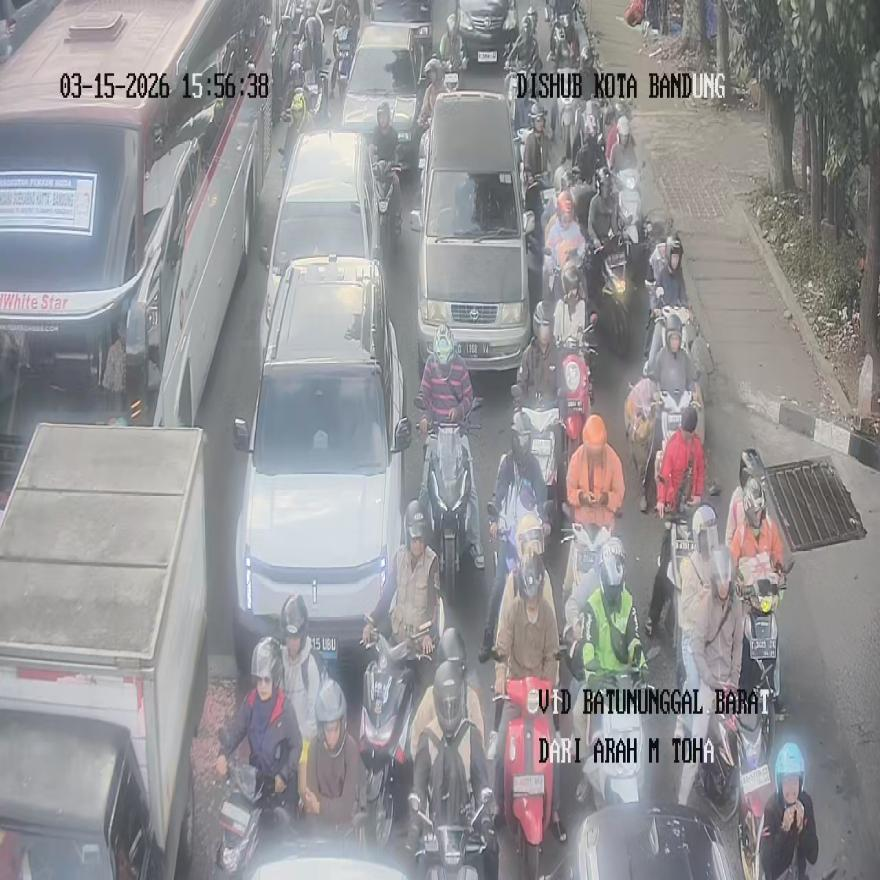Mobil: (0, 423, 209, 876), (231, 254, 410, 677), (411, 89, 534, 383), (260, 127, 384, 358)
bus: (0, 0, 269, 430)
